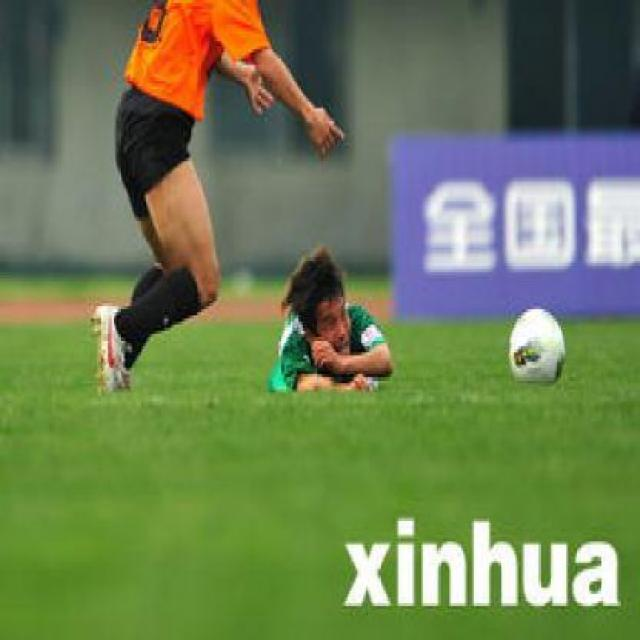fall: (252, 229, 400, 396)
